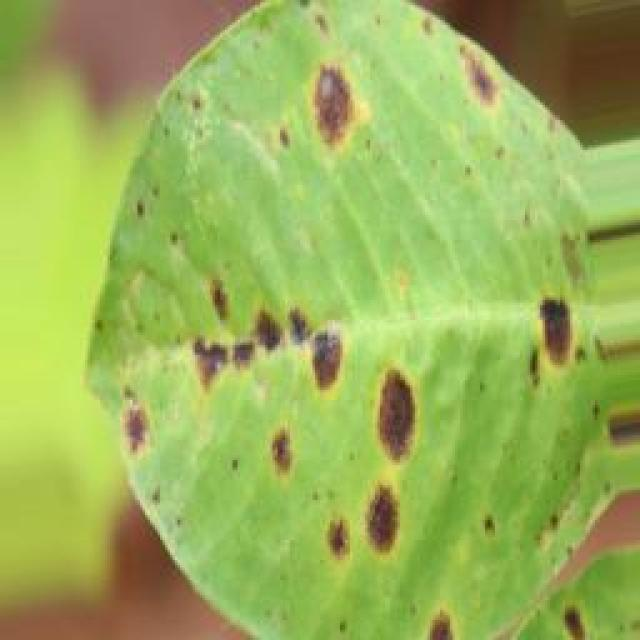Yellowish: (36, 0, 599, 640)
